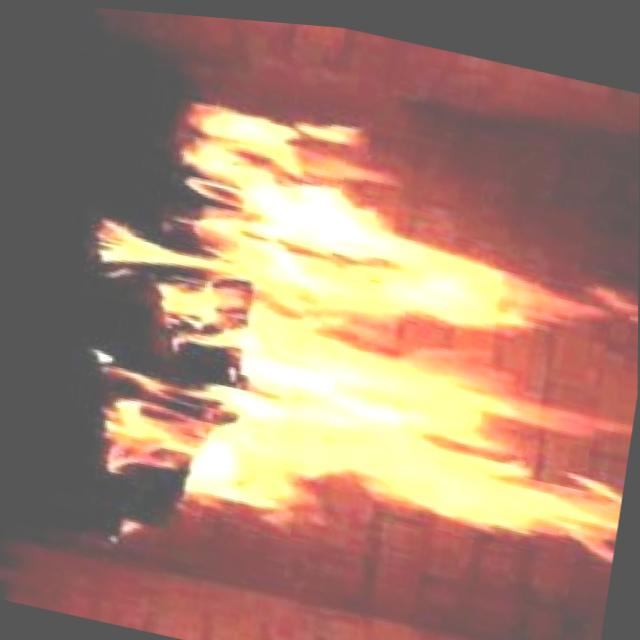helmet: (44, 60, 640, 640)
